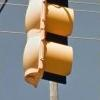traffic lights: (21, 0, 75, 92)
